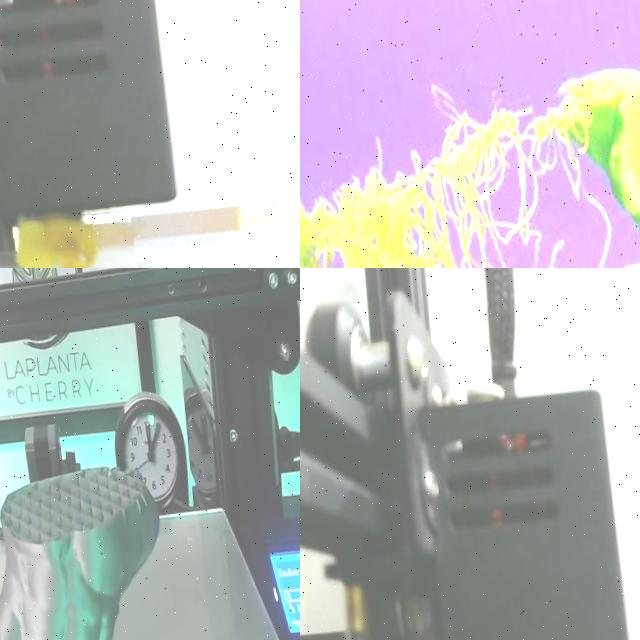spaghetti: (300, 76, 605, 268), (16, 215, 97, 268)
